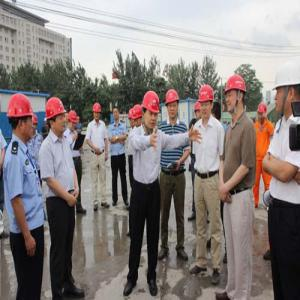none: (113, 107, 121, 123)
red: (6, 91, 34, 143), (225, 76, 247, 117), (45, 97, 67, 135), (143, 91, 162, 131), (200, 85, 215, 118), (166, 89, 180, 122), (133, 105, 144, 130), (258, 103, 269, 124), (68, 111, 78, 132), (93, 102, 101, 122), (195, 103, 203, 123), (128, 109, 135, 127), (32, 116, 38, 134)
white: (274, 63, 300, 116)
